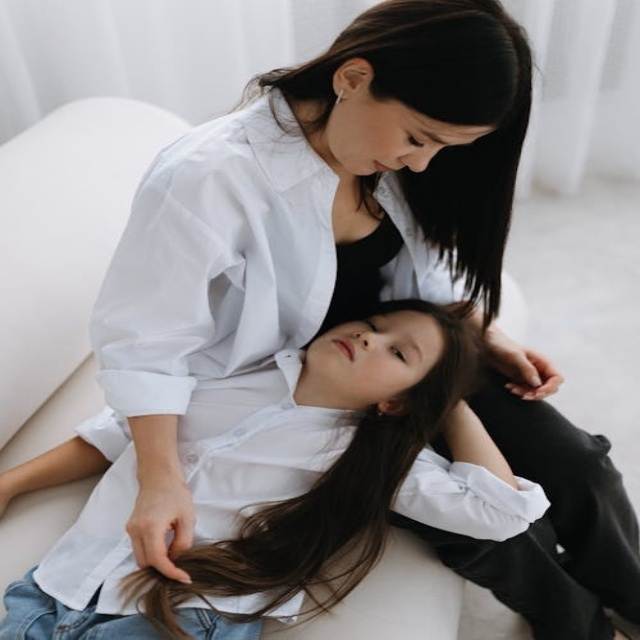Sin_gafas: (357, 309, 422, 369), (397, 111, 457, 159)
Sin_guantes: (124, 476, 206, 584), (476, 322, 570, 404)
Sin_mascara: (323, 327, 367, 374), (362, 151, 398, 181)
